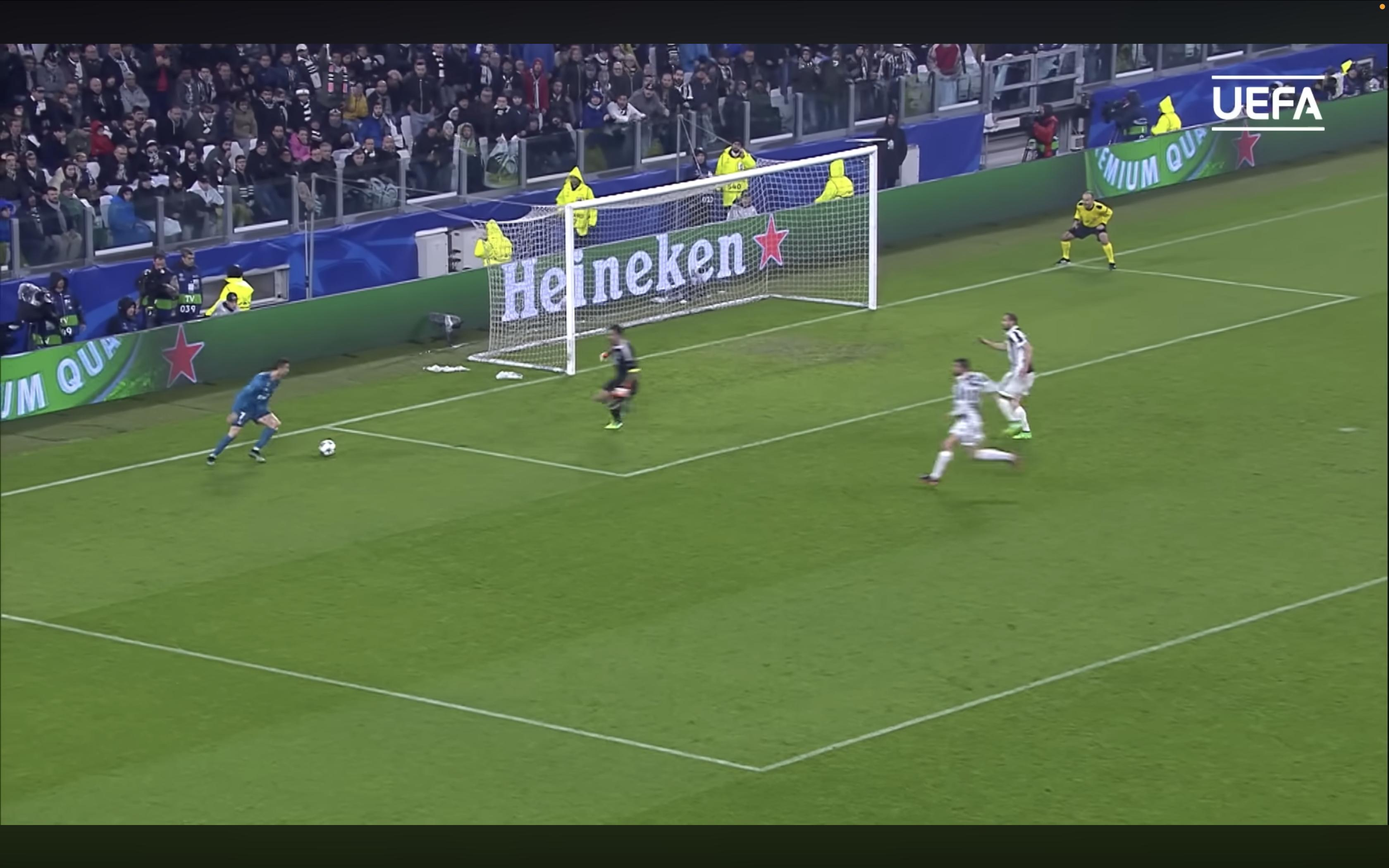ball: (318, 439, 336, 457)
goalkeeper: (594, 325, 640, 430)
player: (921, 358, 1019, 486), (207, 359, 290, 465), (978, 313, 1035, 439)
referee: (1057, 191, 1116, 269)
